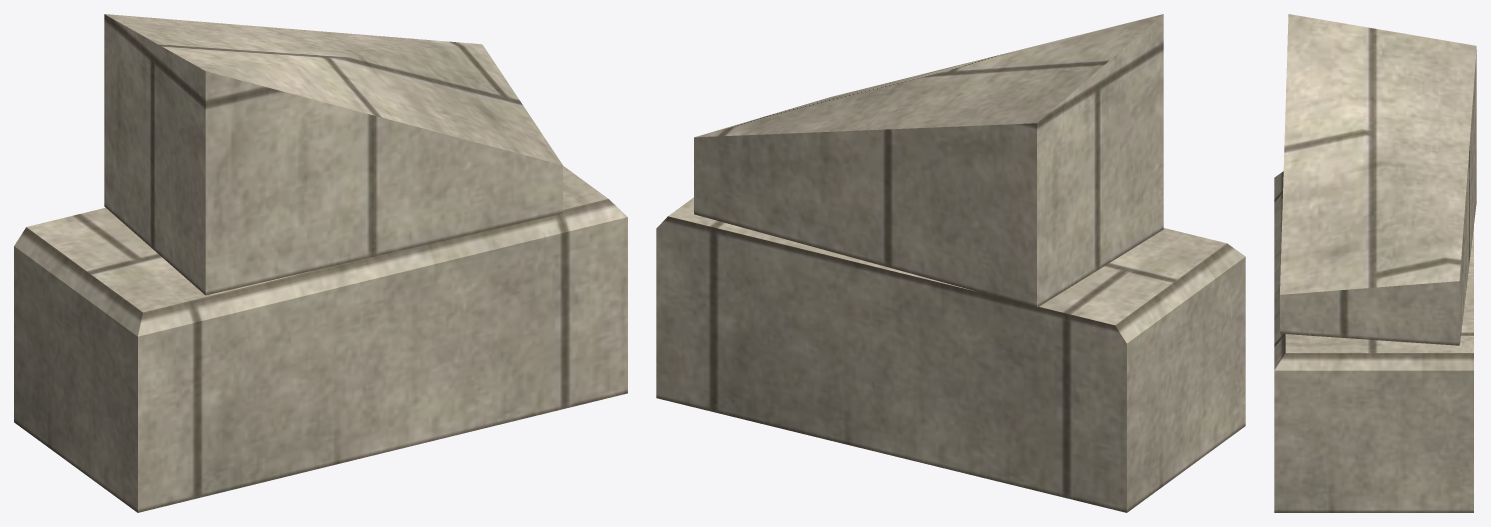
The model's file is debris_nyc_limestone_block.glb.
3 views of the same model, side by side, from view 1: azimuth 30°, elevation 25°; view 2: azimuth 150°, elevation 25°; view 3: azimuth 270°, elevation 25° (orthographic). The views are drawn at different scales.
Parts seen in each view (by area): view 1: debris_nyc_limestone_block; view 2: debris_nyc_limestone_block; view 3: debris_nyc_limestone_block.
Part boxes in pixels (bbox=[...]): debris_nyc_limestone_block: bbox=[14, 14, 627, 512]; debris_nyc_limestone_block: bbox=[656, 14, 1245, 512]; debris_nyc_limestone_block: bbox=[1274, 14, 1476, 512].
Size of the model in its own units: 1.6 by 1.3 by 0.71.
1 material, 1 textured.
